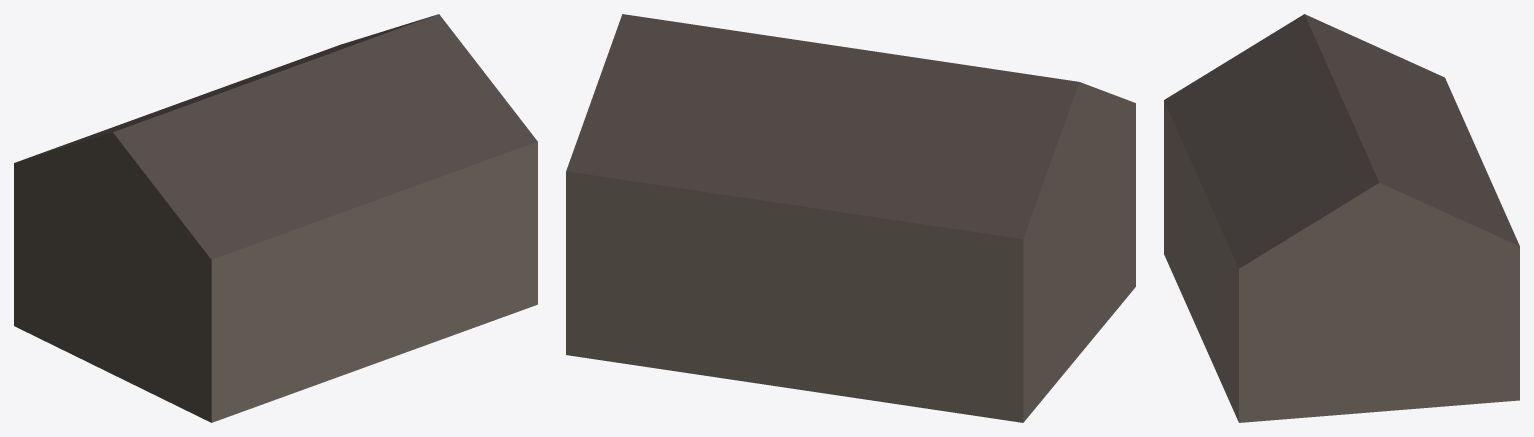
The picture shows the model from 3 angles, left to right: view 1: azimuth 30°, elevation 25°; view 2: azimuth 150°, elevation 25°; view 3: azimuth 270°, elevation 25°; orthographic projection. The views are drawn at different scales.
Parts seen in each view (by area): view 1: HP-w1138074117; view 2: HP-w1138074117; view 3: HP-w1138074117.
Part boxes in pixels (left/top/right/bottom): HP-w1138074117: left=14, top=14, right=537, bottom=422; HP-w1138074117: left=566, top=14, right=1135, bottom=422; HP-w1138074117: left=1164, top=14, right=1519, bottom=422.
Bounding box in the file's own units: 23.95 × 13.37 × 18.84.
